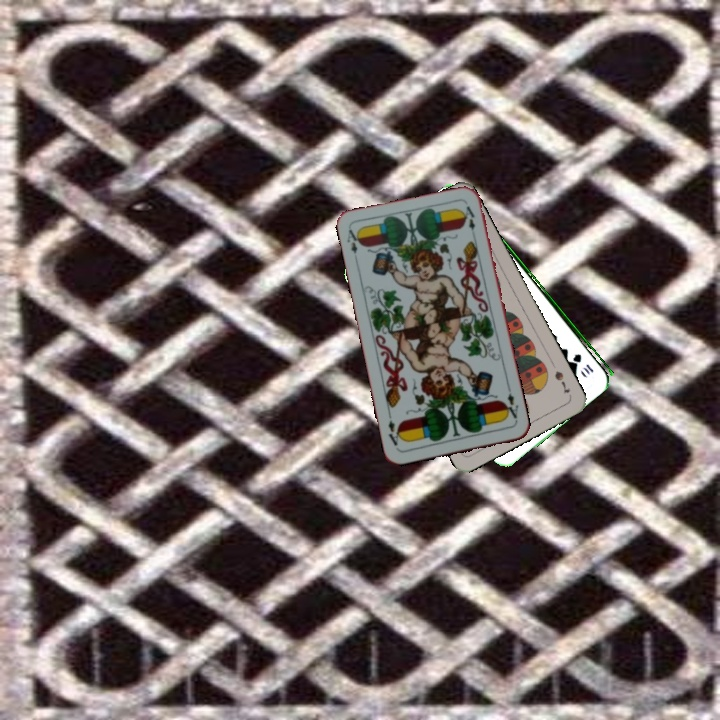EA: (500, 384, 521, 424), (343, 225, 364, 265)
G10: (570, 349, 596, 377)
S7: (550, 367, 573, 396)
